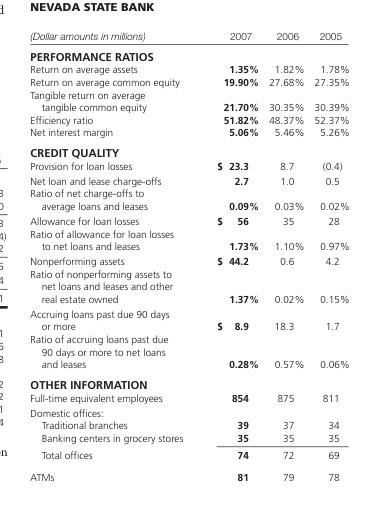table: (29, 29, 348, 482)
table column: (29, 29, 199, 482), (199, 29, 263, 482), (263, 29, 308, 482), (308, 29, 348, 482)
table column header: (29, 29, 348, 44)
table projected row header: (29, 44, 348, 62), (29, 141, 348, 159), (29, 373, 348, 391), (29, 404, 348, 418)
table row: (29, 332, 348, 373), (29, 267, 348, 306), (29, 226, 348, 253), (29, 186, 348, 212), (29, 306, 348, 332), (29, 87, 348, 112), (29, 446, 348, 465), (29, 44, 348, 62), (29, 141, 348, 159), (29, 373, 348, 391), (29, 465, 348, 482), (29, 125, 348, 141), (29, 29, 348, 44), (29, 431, 348, 446), (29, 172, 348, 186), (29, 212, 348, 226), (29, 253, 348, 267), (29, 404, 348, 418), (29, 62, 348, 75), (29, 112, 348, 125), (29, 159, 348, 172), (29, 391, 348, 404), (29, 418, 348, 431), (29, 75, 348, 87)
